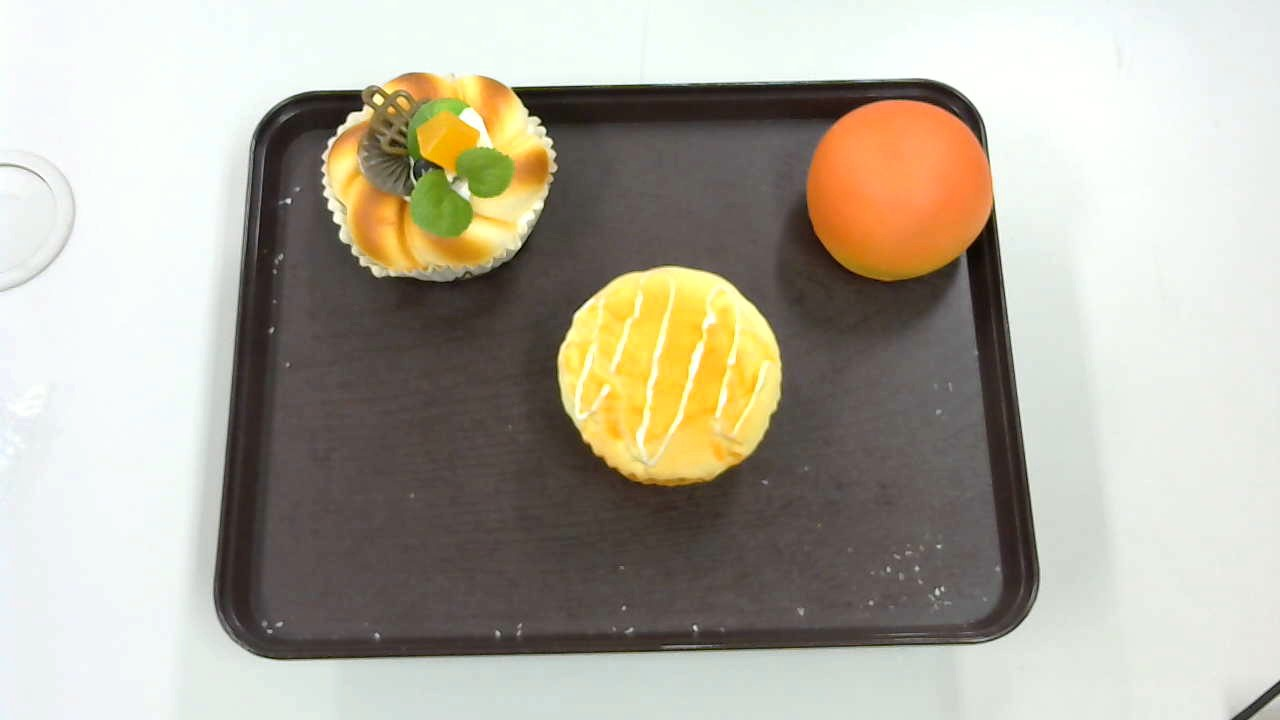bun: (804, 99, 994, 282)
cupcake: (557, 264, 782, 487)
fruit tart: (320, 69, 556, 286)
